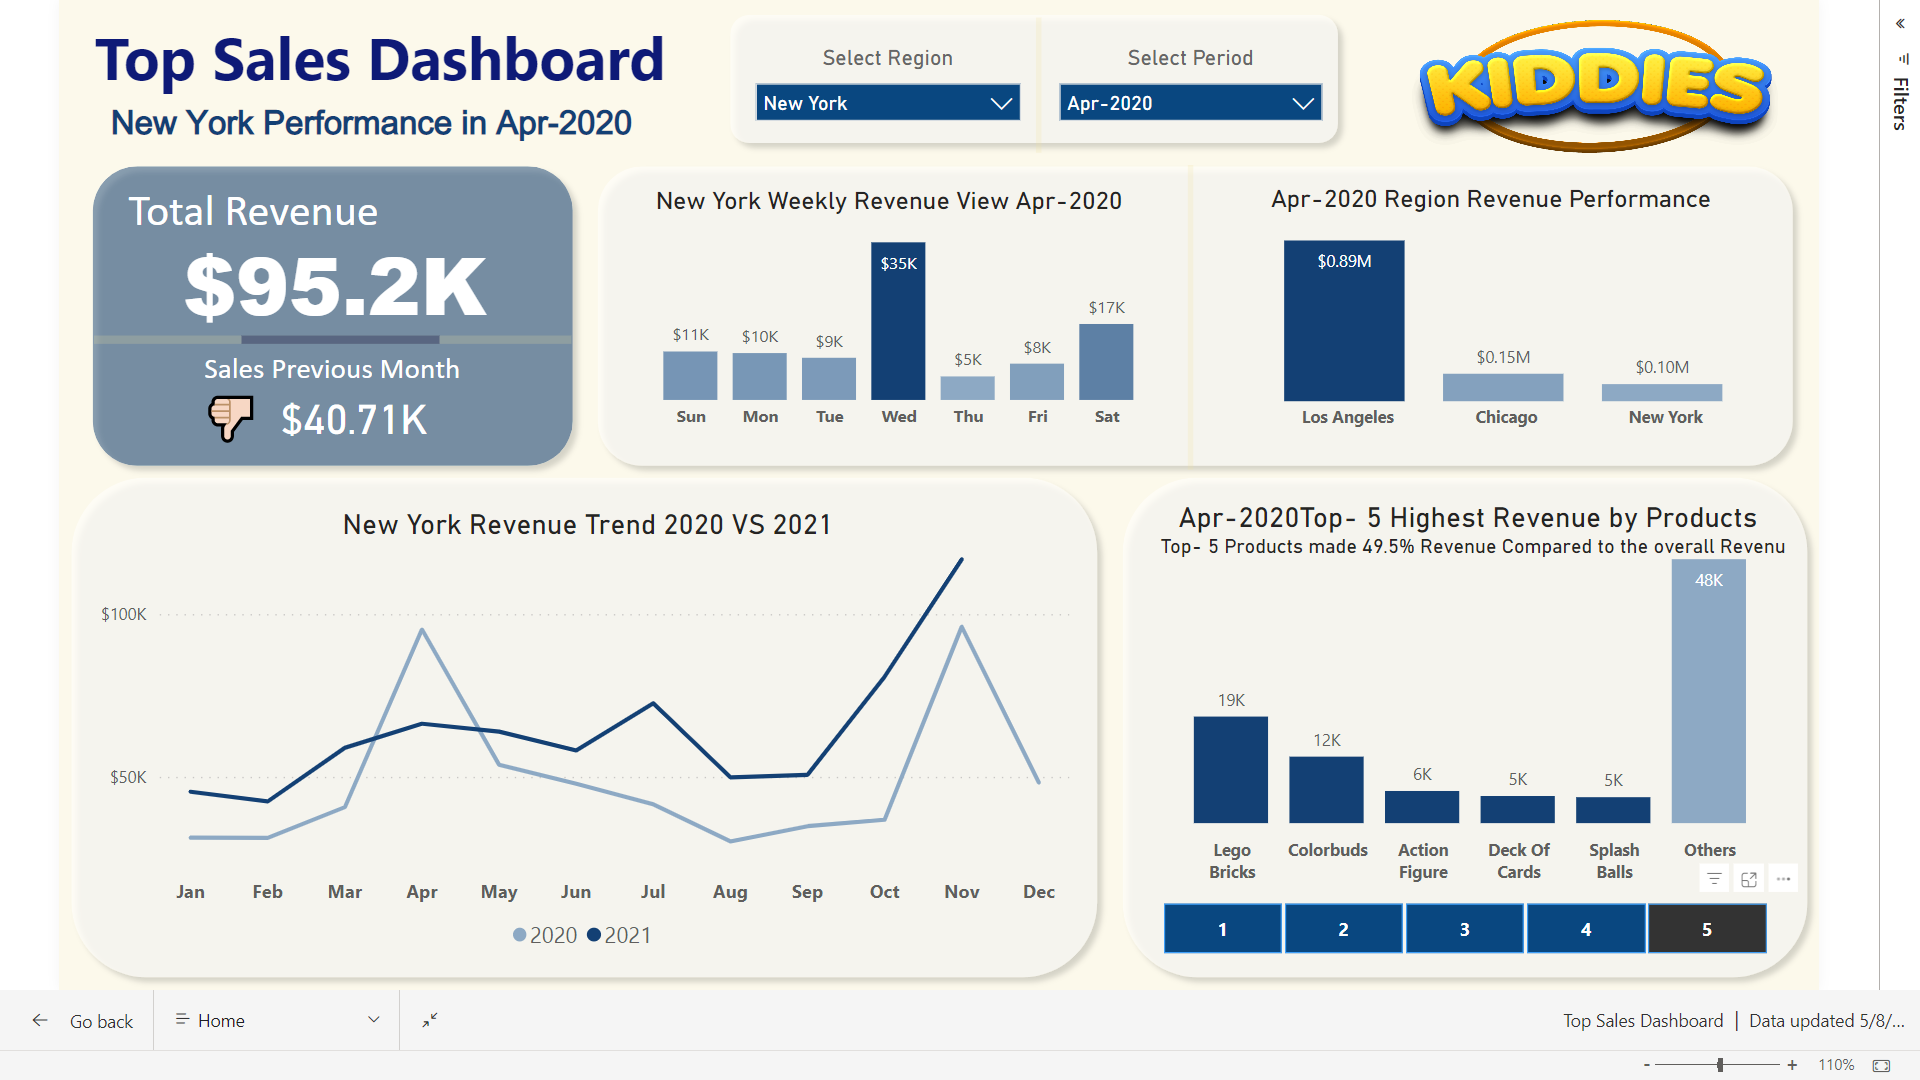

The dashboard page shown, as its layout file describes it:
{"tool":"powerbi","page":{"name":"Home","canvas":[1280,720],"ordinal":0},"visuals":[{"type":"shape","box":[764.3,338.6,515.7,381.4],"z":0},{"type":"columnChart","title":"Dynamic Top Revenue","fields":{"Y":["Products.Dynamic Top Revenue"],"Category":["Products.Product Name"]},"box":[782.9,385.7,478.6,264.3],"z":1000},{"type":"shape","box":[479,1.4,460,111.4],"z":2000},{"type":"shape","box":[15.7,111.4,367.1,235.7],"z":3000},{"type":"shape","box":[382.9,111.4,887.1,235.7],"z":4000},{"type":"shape","box":[0,338.6,764.3,381.4],"z":5000},{"type":"card","fields":{"Values":["All Measures.Total Revenue"]},"box":[52.5,169.2,295.8,70.8],"z":6000},{"type":"slicer","fields":{"Values":["Top Selection.Value"]},"box":[777.1,650,488.6,50],"z":7000},{"type":"card","fields":{"Values":["All Measures.Previous Revenue"]},"box":[90.8,280.1,247.5,45.8],"z":8000},{"type":"card","fields":{"Values":["Products.% Top Selection"]},"box":[777.1,378.6,502.9,40],"z":9000},{"type":"slicer","title":"Select Period","fields":{"Values":["Dim Date.Year-Month"]},"box":[717.6,32.9,211.4,98.6],"z":10000},{"type":"card","fields":{"Values":["All Measures.Thumbs"]},"box":[17.1,271.4,215.7,60],"z":11000},{"type":"slicer","title":"Select Region","fields":{"Values":["Dim Region.Region"]},"box":[496.1,32.9,212.9,98.6],"z":12000},{"type":"card","fields":{"Values":["Products.Current View Caption"]},"box":[0,57.1,454.3,64.3],"z":13000},{"type":"textbox","box":[0,7.1,467.1,80],"z":14000},{"type":"textbox","box":[45.8,128.3,210.8,50.8],"z":15000},{"type":"textbox","box":[25.8,250,346.7,36.7],"z":16000},{"type":"columnChart","fields":{"Category":["Dim Date.Weekdays"],"Y":["All Measures.Total Revenue"]},"box":[414.3,145.7,392.9,175.7],"z":17000},{"type":"columnChart","fields":{"Y":["All Measures.Total Revenue"],"Category":["Dim Region.Region"]},"box":[840,147.1,425.7,174.3],"z":18000},{"type":"lineChart","fields":{"Category":["Dim Date.Month"],"Series":["Dim Date.Year"],"Y":["All Measures.Total Revenue"]},"box":[25.7,385.7,714.3,314.3],"z":19000},{"type":"shape","box":[25.7,225.7,347.1,42.9],"z":20000},{"type":"shape","box":[132.9,225.7,144.3,42.9],"z":21000},{"type":"shape","box":[670.9,12.9,82.9,98.6],"z":22000},{"type":"shape","box":[764.3,120,117.1,221.4],"z":23000},{"type":"card","fields":{"Values":["All Measures.Tend Title"]},"box":[15.7,350,738.6,62.9],"z":24000},{"type":"card","fields":{"Values":["All Measures.Top Product Title"]},"box":[778.6,344.3,492.9,62.9],"z":25000},{"type":"card","fields":{"Values":["All Measures.Weekly Trend Title"]},"box":[400,128.6,407.1,35.7],"z":26000},{"type":"card","fields":{"Values":["All Measures.Regional Tital"]},"box":[840,127.1,407.1,35.7],"z":27000},{"type":"image","box":[974.3,0,287.1,121.4],"z":28000}]}

Visuals, with their boxes on the page's 1280x720 design canvas (x1, y1, x2, y2). These are canvas units, not pixel positions in the 1920x1080 screenshot, which may show the page scaled, cropped or inside an application window:
shape: crop(764, 339, 1280, 720)
"Dynamic Top Revenue" columnChart: crop(783, 386, 1262, 650)
shape: crop(479, 1, 939, 113)
shape: crop(16, 111, 383, 347)
shape: crop(383, 111, 1270, 347)
shape: crop(0, 339, 764, 720)
card - All Measures.Total Revenue: crop(52, 169, 348, 240)
slicer - Top Selection.Value: crop(777, 650, 1266, 700)
card - All Measures.Previous Revenue: crop(91, 280, 338, 326)
card - Products.% Top Selection: crop(777, 379, 1280, 419)
"Select Period" slicer: crop(718, 33, 929, 132)
card - All Measures.Thumbs: crop(17, 271, 233, 331)
"Select Region" slicer: crop(496, 33, 709, 132)
card - Products.Current View Caption: crop(0, 57, 454, 121)
textbox: crop(0, 7, 467, 87)
textbox: crop(46, 128, 257, 179)
textbox: crop(26, 250, 372, 287)
columnChart - Dim Date.Weekdays x All Measures.Total Revenue: crop(414, 146, 807, 321)
columnChart - All Measures.Total Revenue x Dim Region.Region: crop(840, 147, 1266, 321)
lineChart - Dim Date.Month x Dim Date.Year: crop(26, 386, 740, 700)
shape: crop(26, 226, 373, 269)
shape: crop(133, 226, 277, 269)
shape: crop(671, 13, 754, 112)
shape: crop(764, 120, 881, 341)
card - All Measures.Tend Title: crop(16, 350, 754, 413)
card - All Measures.Top Product Title: crop(779, 344, 1272, 407)
card - All Measures.Weekly Trend Title: crop(400, 129, 807, 164)
card - All Measures.Regional Tital: crop(840, 127, 1247, 163)
image: crop(974, 0, 1261, 121)
